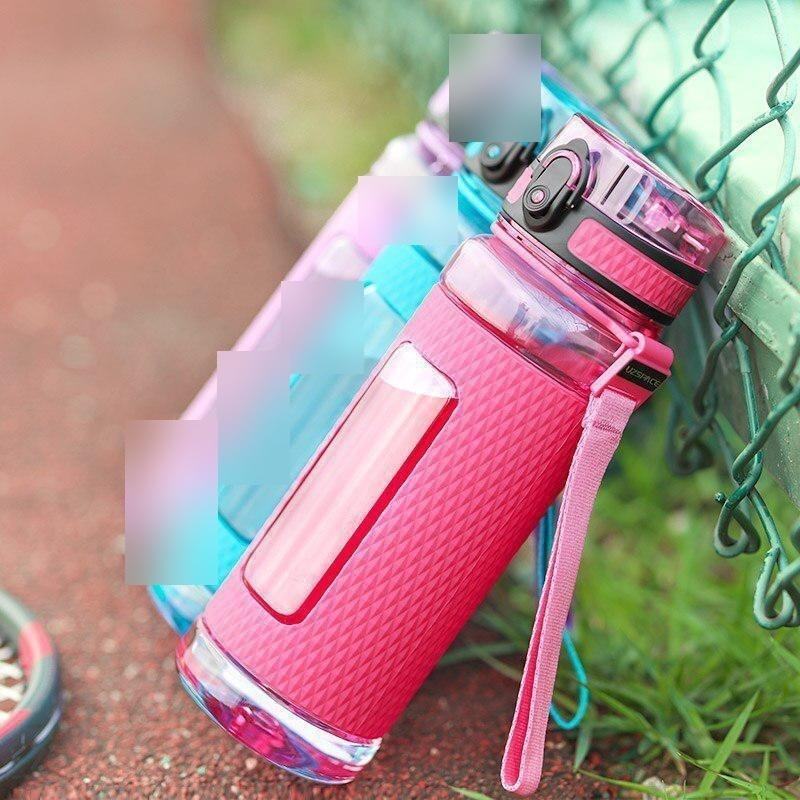gym bottle: (177, 112, 734, 782)
